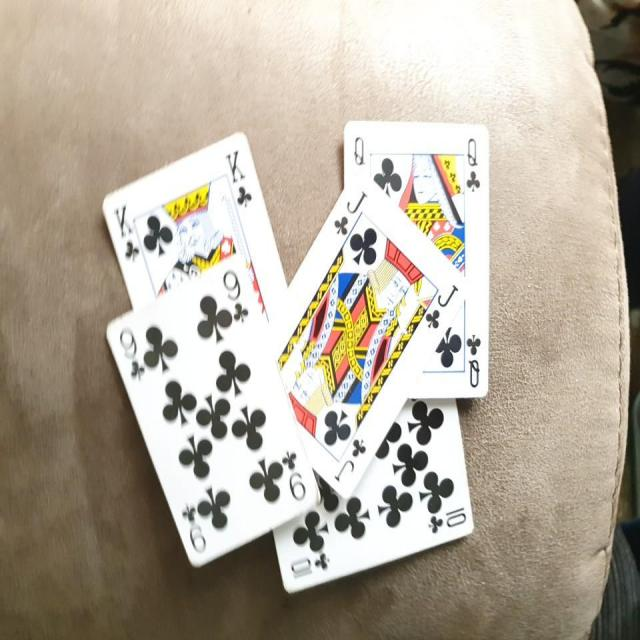10 Trefoils: (273, 398, 477, 596)
9 Trefoils: (104, 254, 322, 569)
J Trefoils: (262, 172, 465, 504)
K Trefoils: (100, 130, 288, 322)
Q Trefoils: (343, 114, 491, 402)
